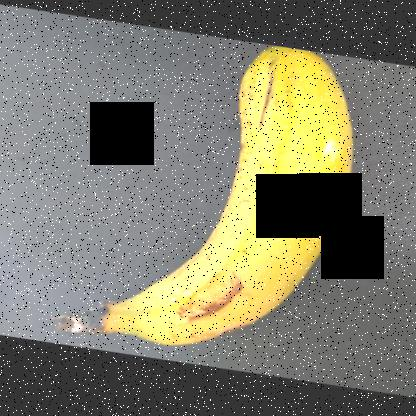ripe: (101, 50, 373, 347)
